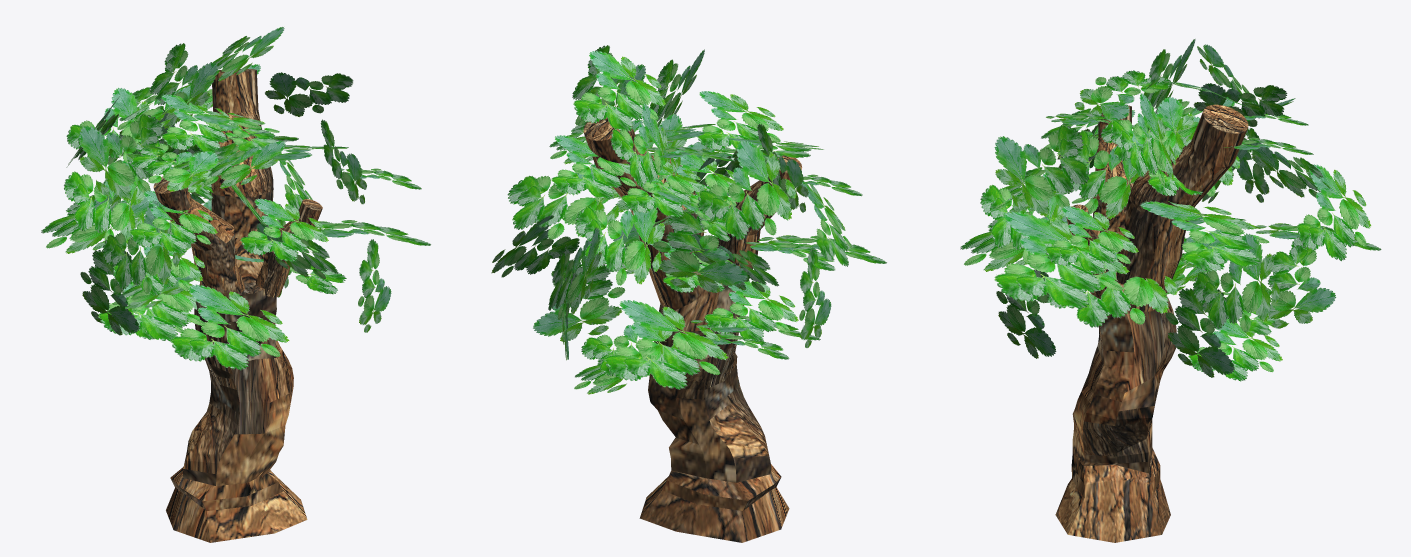
File: Tree.glb
The picture shows the model from 3 angles, left to right: view 1: azimuth 30°, elevation 25°; view 2: azimuth 150°, elevation 25°; view 3: azimuth 270°, elevation 25°; orthographic projection. The views are drawn at different scales.
Visible parts, largest first — view 1: Cube, Plane.041, Plane.015, Plane.021, Plane.035, Plane.008, Plane.007, Plane.011, Plane.037, Plane.020, Plane.004, Plane.036 (+17 smaller); view 2: Cube, Plane.032, Plane.013, Plane.033, Plane.018, Plane.010, Plane.003, Plane.024, Plane.017, Plane.002, Plane.012, Plane.037 (+23 smaller); view 3: Cube, Plane.009, Plane.039, Plane.003, Plane.023, Plane.029, Plane.030, Plane.038, Plane.026, Plane.024, Plane.027, Plane.004 (+15 smaller).
Boxes of the visible parts, x1,y1,x2,y2 form: Cube: (153,69,322,542); Plane.041: (170,284,289,370); Plane.015: (79,113,166,200); Plane.021: (63,160,144,243); Plane.035: (102,200,180,293); Plane.008: (240,198,328,261); Plane.007: (129,190,217,253); Plane.011: (130,141,218,192); Plane.037: (149,43,217,128); Plane.020: (98,270,204,341); Plane.004: (265,72,353,116); Plane.036: (80,250,139,335); Cube: (583,117,802,542); Plane.032: (604,300,728,389); Plane.013: (697,140,796,240); Plane.033: (575,194,664,285); Plane.018: (653,211,747,292); Plane.010: (573,50,665,131); Plane.003: (507,163,619,239); Plane.024: (533,260,625,341); Plane.017: (704,281,798,342); Plane.002: (551,135,636,199); Plane.012: (697,91,783,150); Plane.037: (610,103,677,190); Cube: (1055,104,1248,542); Plane.009: (994,211,1129,309); Plane.039: (994,124,1089,216); Plane.003: (1140,201,1269,271); Plane.023: (1192,233,1279,332); Plane.029: (1297,164,1371,261); Plane.030: (1267,236,1336,328); Plane.038: (1045,206,1138,273); Plane.026: (1046,252,1177,327); Plane.024: (1165,288,1234,377); Plane.027: (1071,130,1148,219); Plane.004: (1110,93,1175,185).
Size of the model in its own units: 3 by 3.87 by 3.43.
2 materials, 2 textured.
